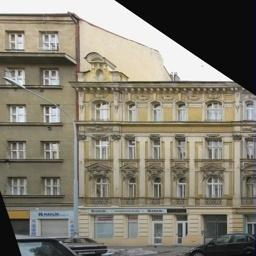building: (79, 74, 256, 256), (0, 10, 82, 249)
